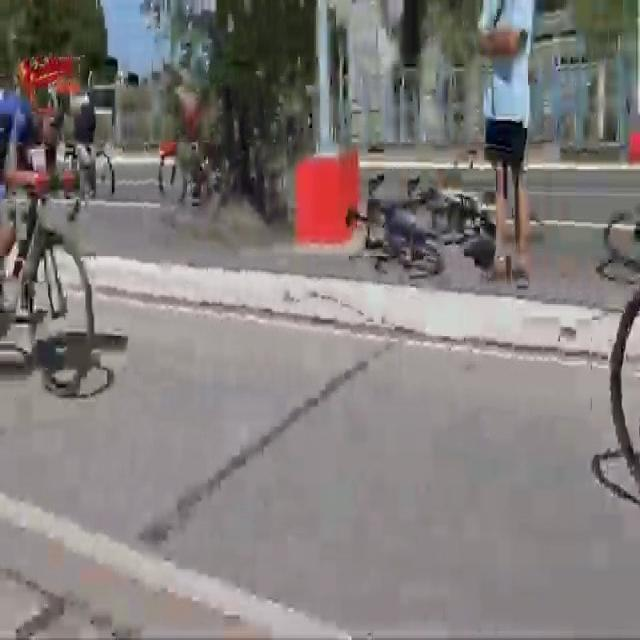bike: (4, 118, 99, 403), (607, 284, 640, 490), (61, 136, 122, 198)
